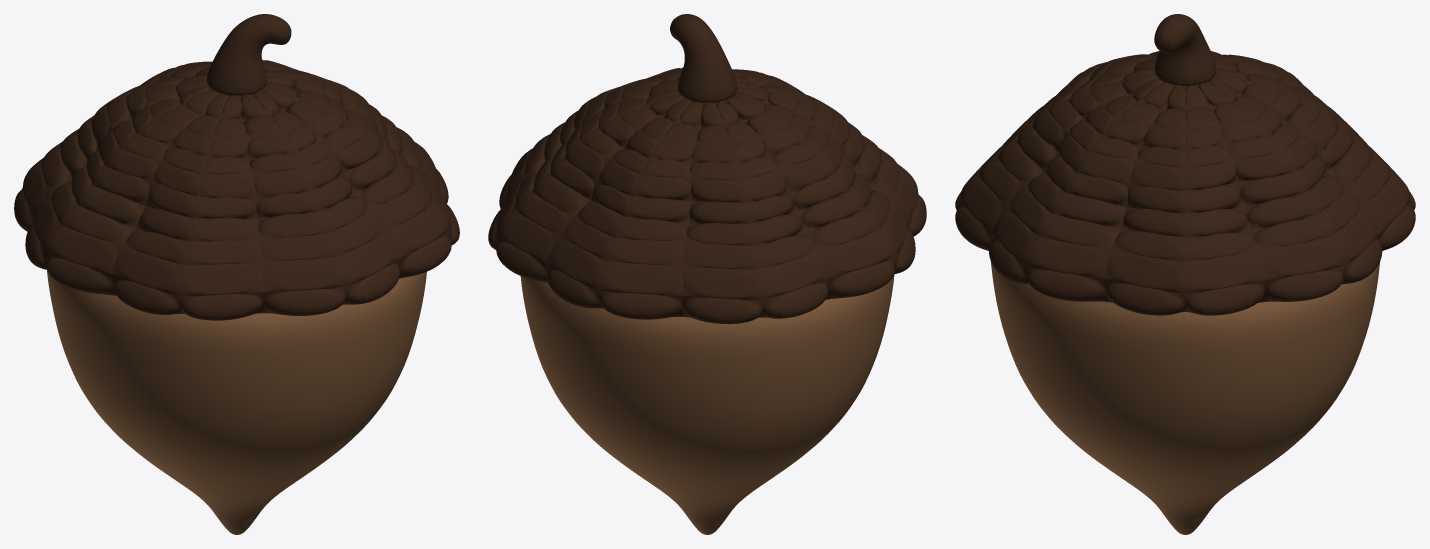
The model's file is acorn.glb.
3 renders of one model, left to right at view 1: azimuth 30°, elevation 25°; view 2: azimuth 150°, elevation 25°; view 3: azimuth 270°, elevation 25°, orthographic. The views are drawn at different scales.
Parts seen in each view (by area): view 1: Material_001-material (×2), Light_Brown-material; view 2: Material_001-material (×2), Light_Brown-material; view 3: Material_001-material (×2), Light_Brown-material.
Boxes of the visible parts, x1,y1,x2,y2 form: Material_001-material (×2): (14,14,459,320); Light_Brown-material: (47,270,426,534); Material_001-material (×2): (488,14,926,324); Light_Brown-material: (520,275,894,534); Material_001-material (×2): (955,14,1415,315); Light_Brown-material: (990,261,1380,534).
Size of the model in its own units: 1.89 by 2.39 by 1.89.
